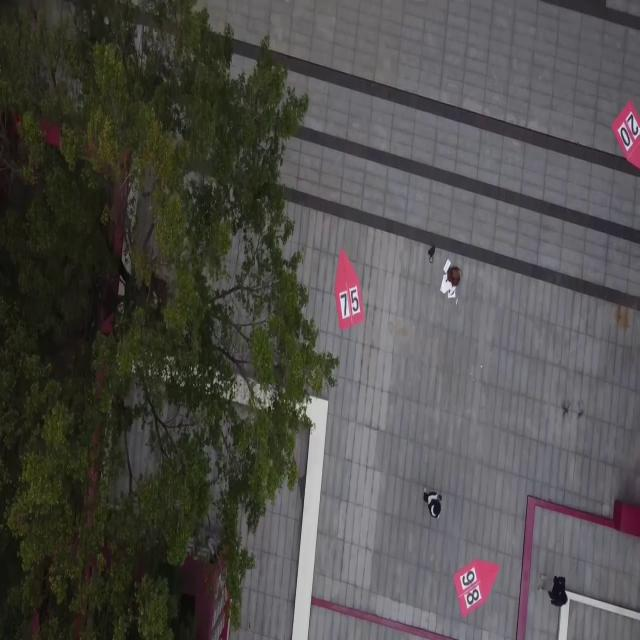-sign-: (452, 559, 499, 618), (333, 247, 365, 331), (610, 97, 640, 169)
